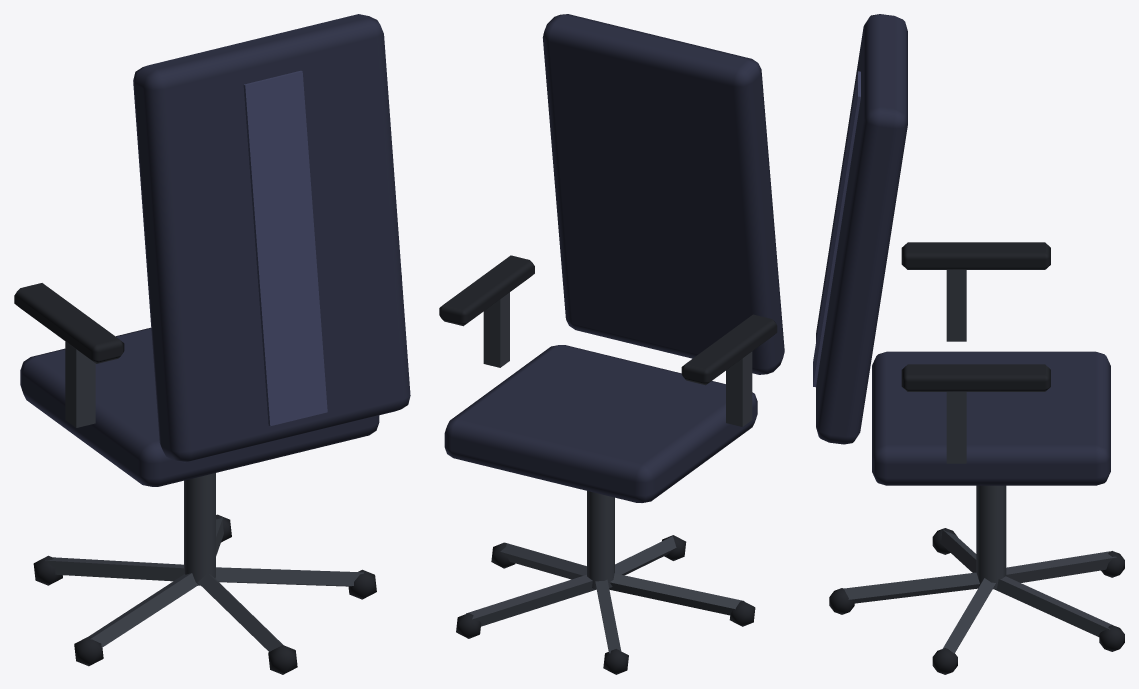
Rendered from station_processing_ausstattung_3_2.glb.
3 views of the same model, side by side, from view 1: azimuth 30°, elevation 25°; view 2: azimuth 150°, elevation 25°; view 3: azimuth 270°, elevation 25° (orthographic). The views are drawn at different scales.
Parts seen in each view (by area): view 1: station_processing_ausstattung_3_2; view 2: station_processing_ausstattung_3_2; view 3: station_processing_ausstattung_3_2.
Boxes of the visible parts, <box> form: station_processing_ausstattung_3_2: <box>14,14,410,674</box>; station_processing_ausstattung_3_2: <box>439,14,784,674</box>; station_processing_ausstattung_3_2: <box>813,14,1124,674</box>.
Bounding box in the file's own units: 0.65 × 1.23 × 0.6264.
